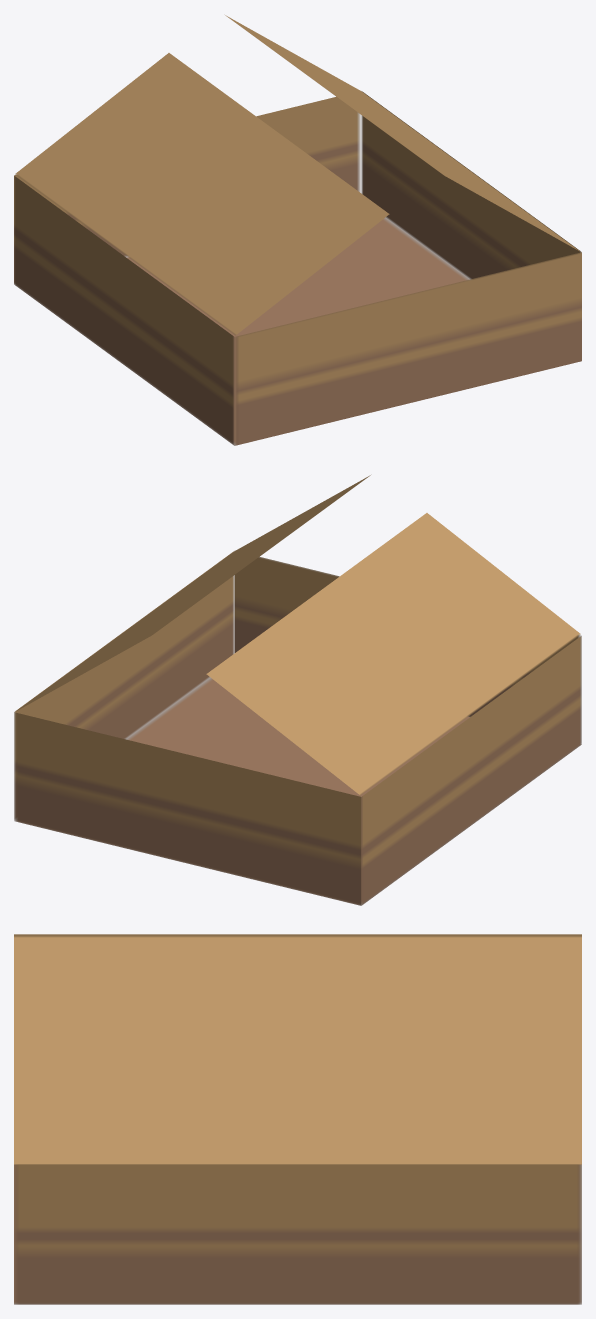
File: cuboid8Opened.glb
3 renders of one model, top to bottom at view 1: azimuth 30°, elevation 25°; view 2: azimuth 150°, elevation 25°; view 3: azimuth 270°, elevation 25°, orthographic. The views are drawn at different scales.
Visible parts, largest first — view 1: plane_4; view 2: plane_4; view 3: plane_4.
Part boxes in pixels (x1,y1,x2,y2): plane_4: (14, 15, 581, 445); plane_4: (14, 475, 581, 905); plane_4: (14, 934, 581, 1304).
Size of the model in its own units: 1.25 by 0.7544 by 1.38.
Materials: 1 (1 with a texture image).
